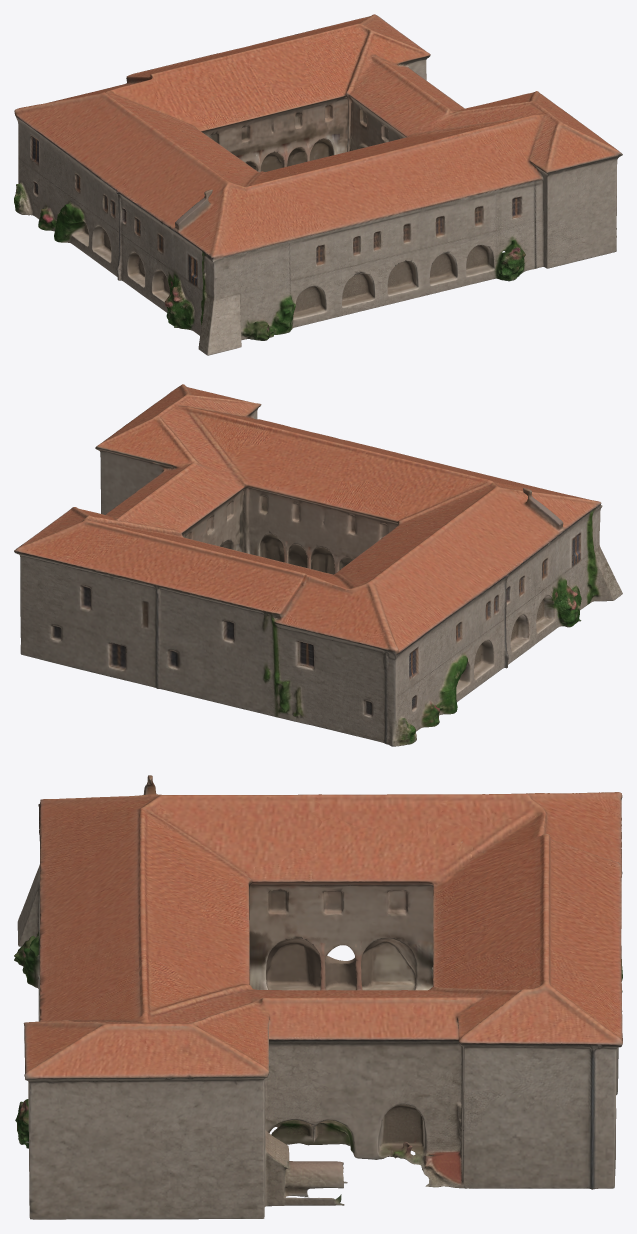
Rendered from Meshy_AI_Terracotta_Courtyard__0921095714_texture.fbx.
The picture shows the model from 3 angles, top to bottom: view 1: azimuth 30°, elevation 25°; view 2: azimuth 150°, elevation 25°; view 3: azimuth 270°, elevation 25°; orthographic projection. The views are drawn at different scales.
Parts seen in each view (by area): view 1: Mesh_0; view 2: Mesh_0; view 3: Mesh_0.
Part boxes in pixels (box(x1,y1,x2,y2)): Mesh_0: box(14, 14, 622, 355); Mesh_0: box(14, 384, 622, 746); Mesh_0: box(14, 775, 622, 1219).
Size of the model in its own units: 190 by 52.91 by 162.
1 material, 1 textured.
